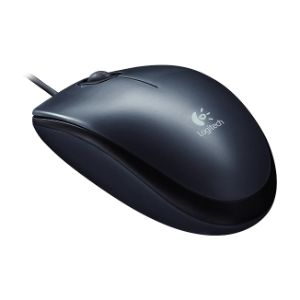mouse: (23, 57, 280, 239)
